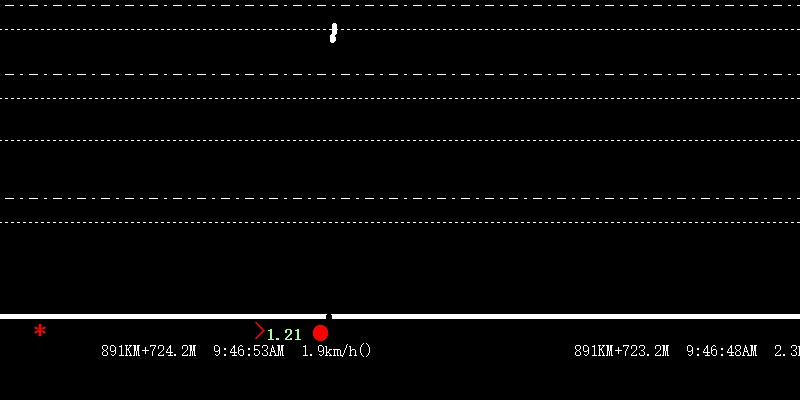circle: (313, 323, 328, 342)
face_1: (327, 22, 340, 43)
star: (33, 321, 47, 336)
